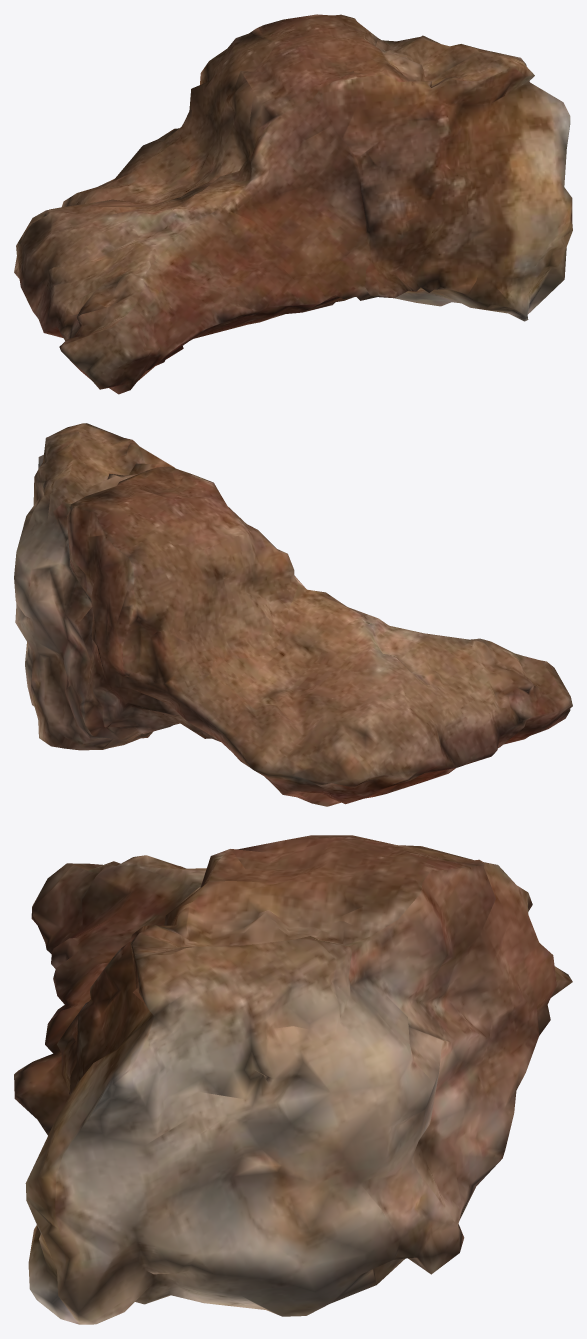
The model's file is stone_01.glb.
The picture shows the model from 3 angles, top to bottom: view 1: azimuth 30°, elevation 25°; view 2: azimuth 150°, elevation 25°; view 3: azimuth 270°, elevation 25°; orthographic projection. The views are drawn at different scales.
Visible parts, largest first — view 1: stone_01; view 2: stone_01; view 3: stone_01.
Boxes of the visible parts, x1,y1,x2,y2 form: stone_01: (14,14,572,394); stone_01: (14,423,572,806); stone_01: (14,835,572,1324).
Size of the model in its own units: 0.1462 by 0.0708 by 0.089.
1 material, 1 textured.
